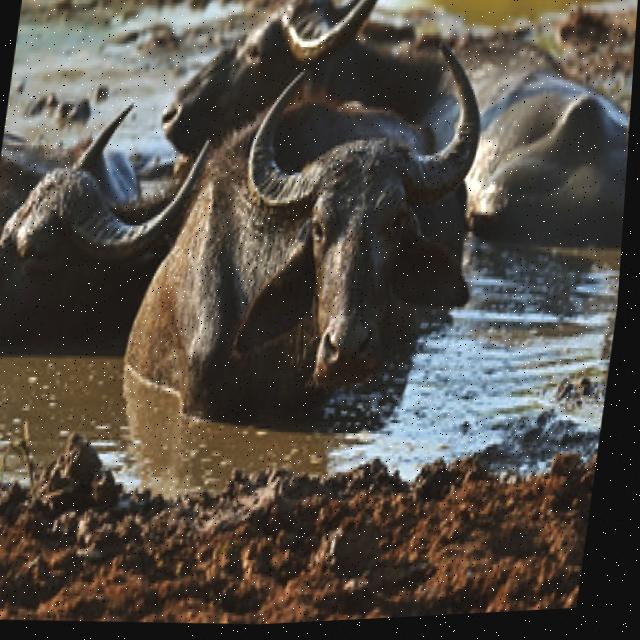Buffalo: (123, 27, 502, 420)
